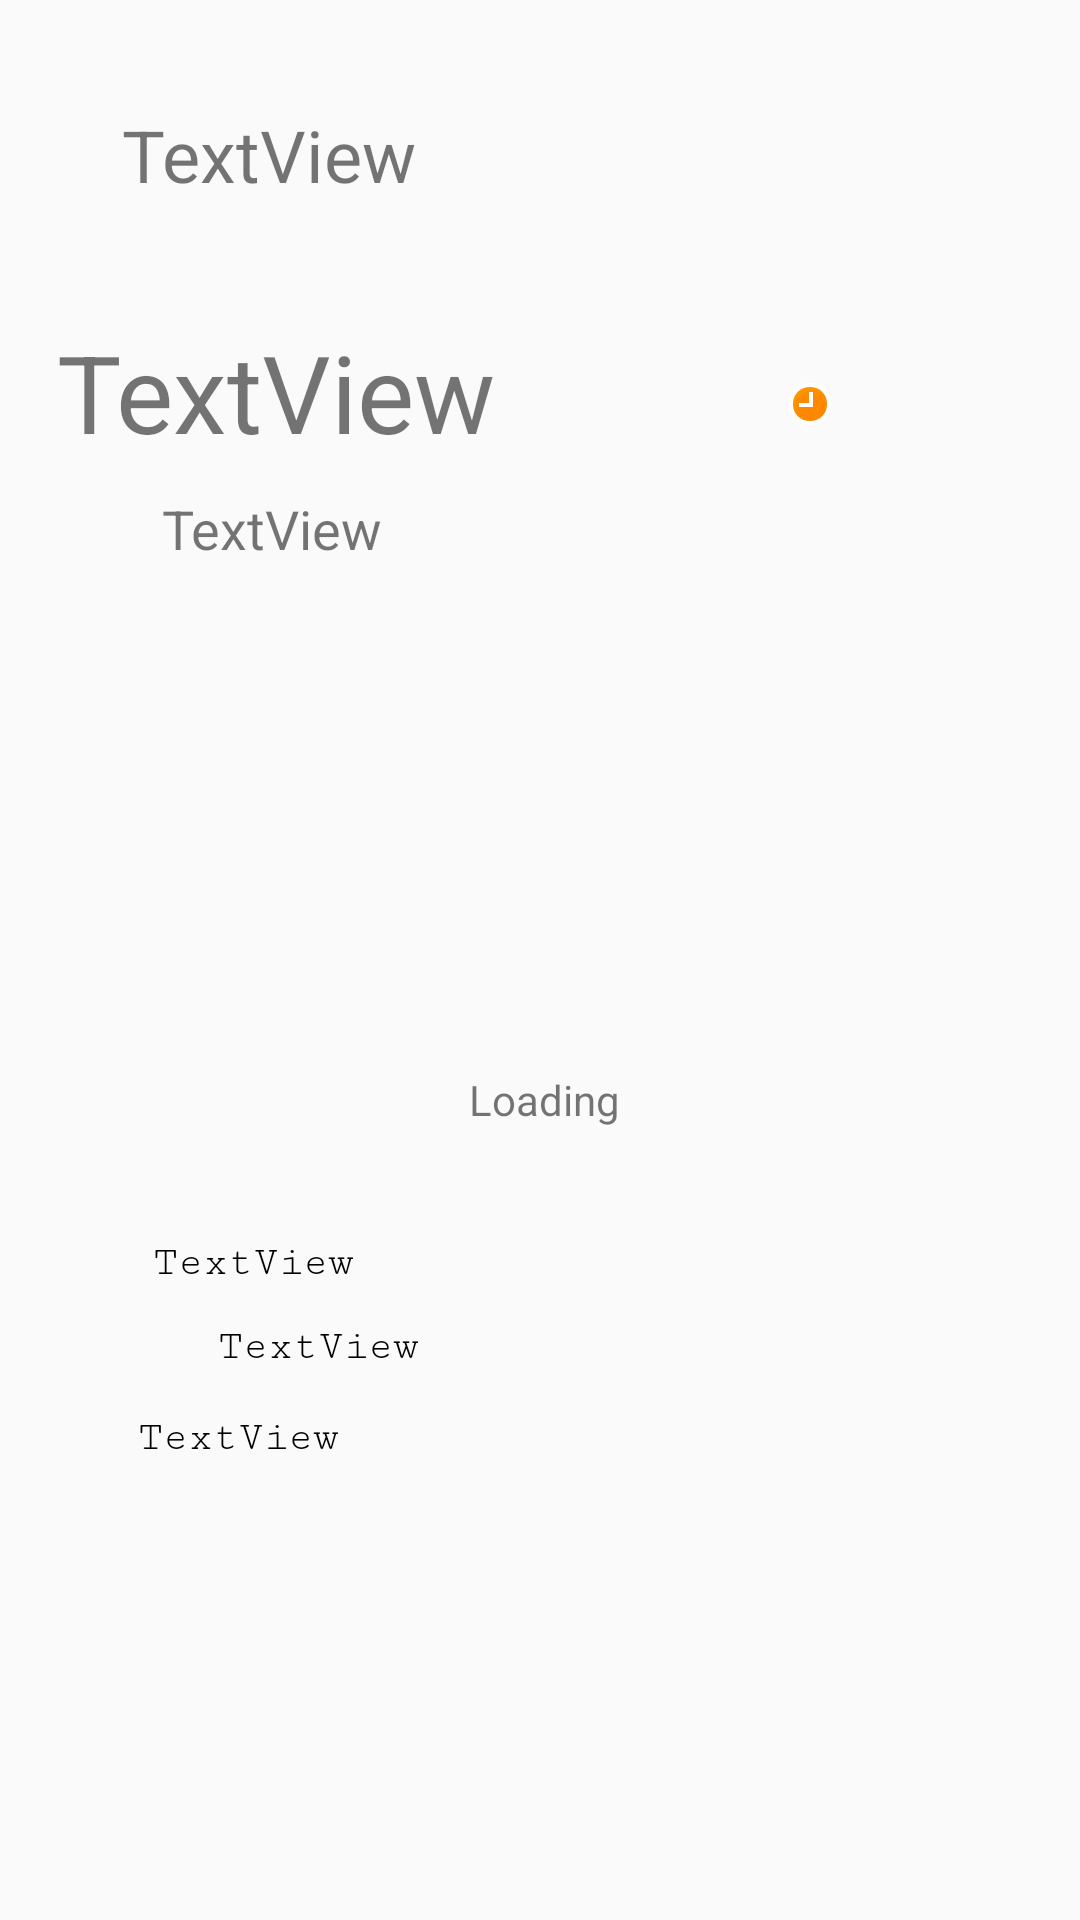

Icons on this 1080×1920 Android screen, each with the point to tap as (x=x, y=y):
presence away: (x=810, y=404)
